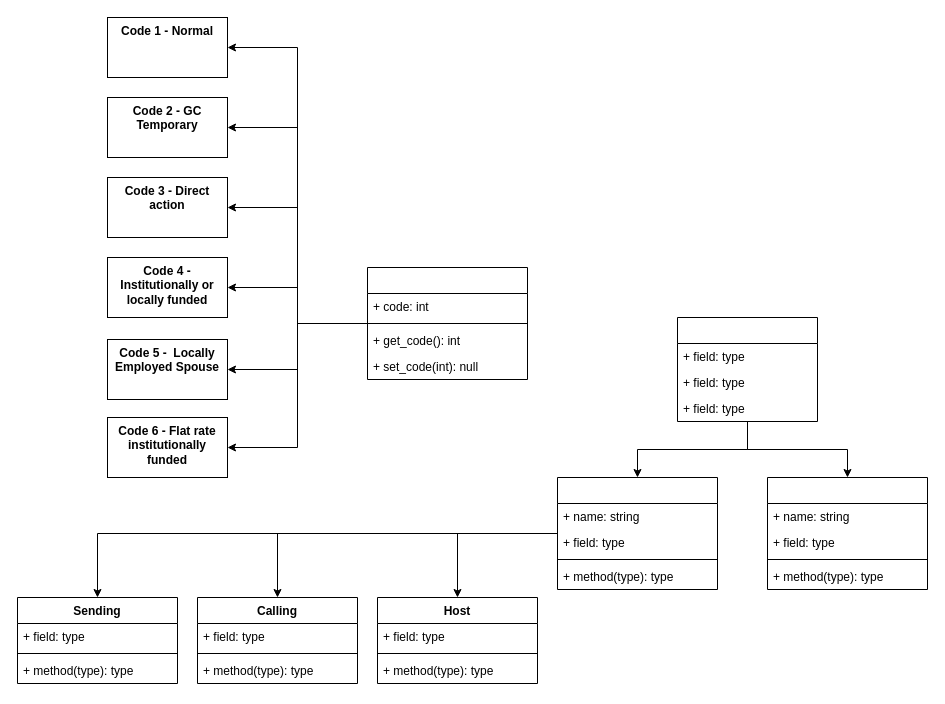
The diagram is 945 pixels wide and 704 high, and some of its shapes have lost their labels. The shapes that lost their labels are listed below. From the top down, each one's box as (x1, y1, x2, y2) in pixels, then its label:
(366, 266, 528, 380): ISE budget
(676, 316, 818, 422): General Conference
(556, 476, 718, 590): Division
(766, 476, 928, 590): Institution
